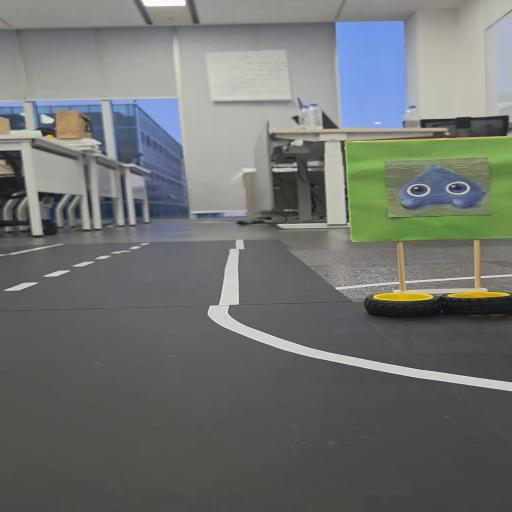Sign_B: (338, 132, 512, 326)
